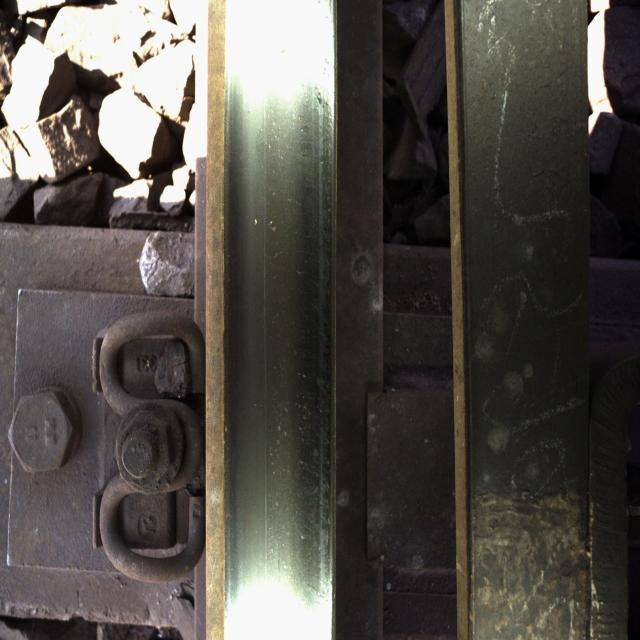normal: (232, 16, 318, 629)
